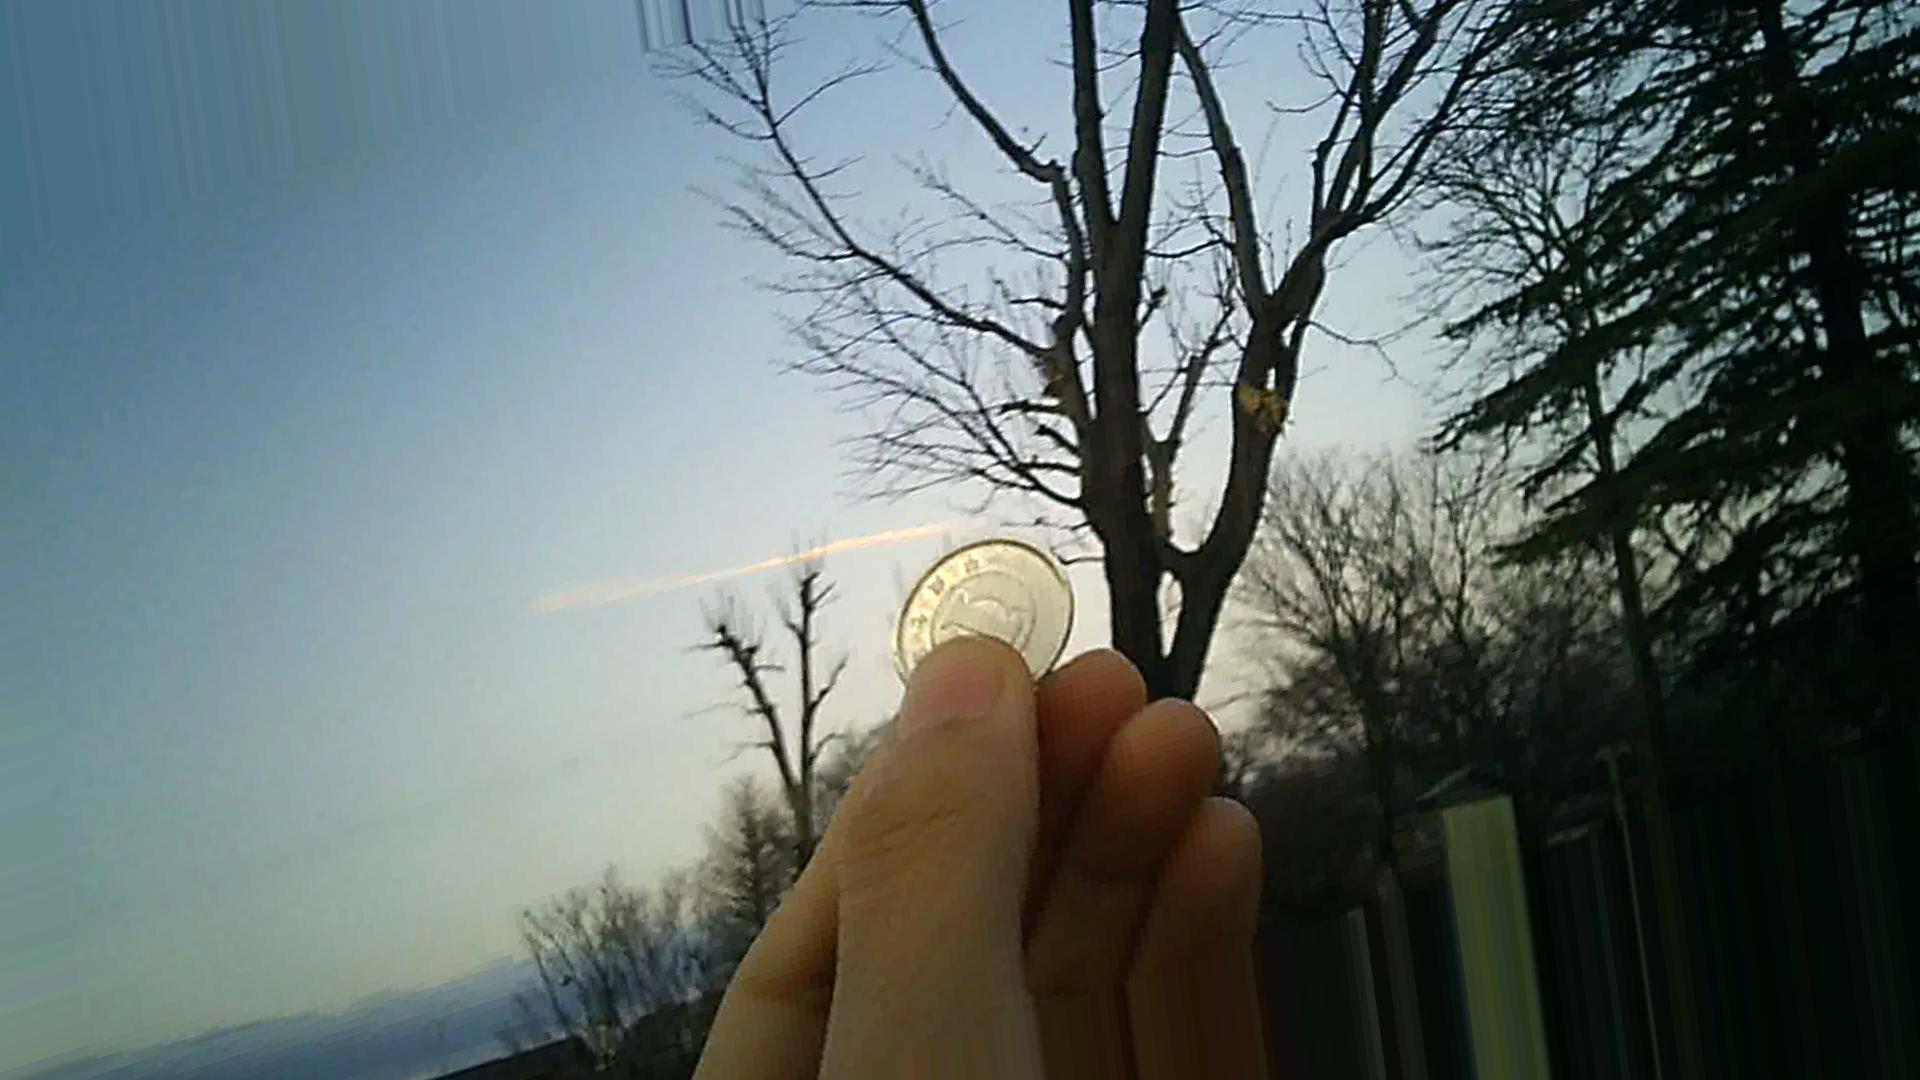1 Yen: (884, 517, 1095, 708)
